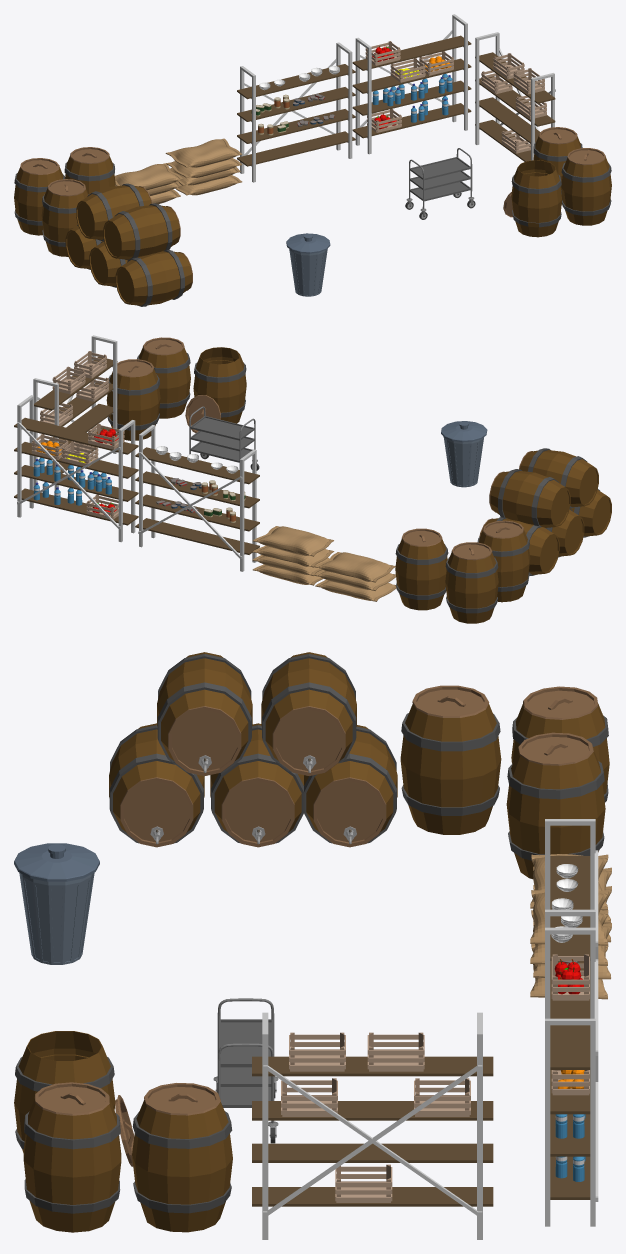
The model's file is Armazem.fbx.
3 views of the same model, one above another, from view 1: azimuth 30°, elevation 25°; view 2: azimuth 150°, elevation 25°; view 3: azimuth 270°, elevation 25° (orthographic). The views are drawn at different scales.
Parts seen in each view (by area): view 1: Armazem; view 2: Armazem; view 3: Armazem.
Part boxes in pixels (bbox=[...]): Armazem: bbox=[14, 14, 611, 306]; Armazem: bbox=[14, 335, 611, 623]; Armazem: bbox=[14, 652, 611, 1239].
Bounding box in the file's own units: 197 × 43.46 × 113.
